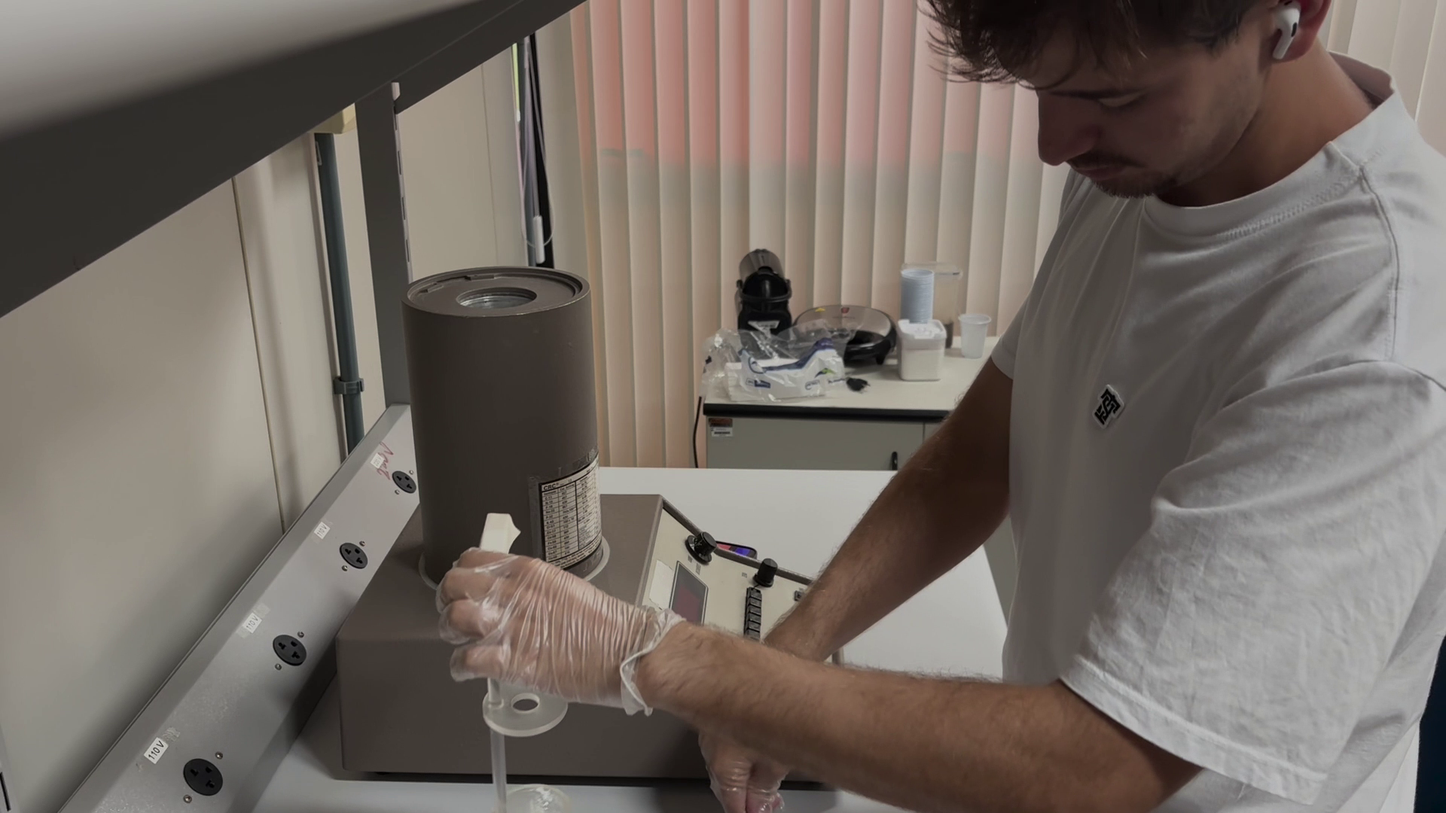Ativimetro: (399, 247, 610, 586)
Cesta: (471, 507, 568, 813)
Com_Luva: (434, 544, 688, 721), (699, 719, 790, 813)
